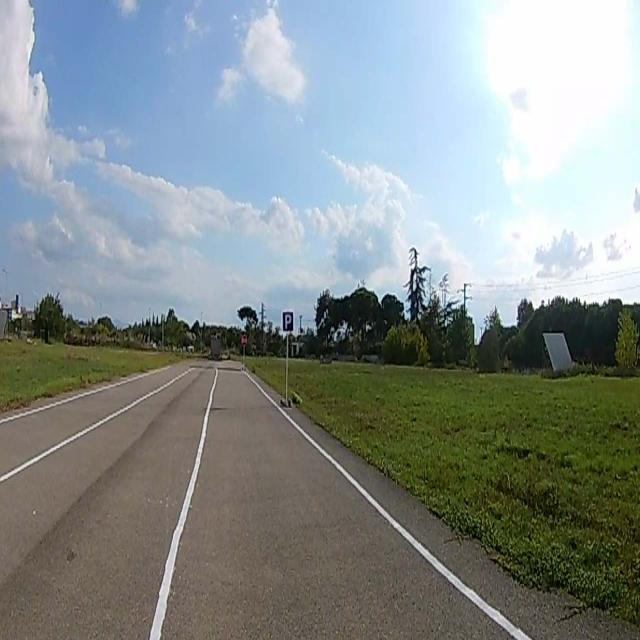park: (282, 312, 292, 329)
